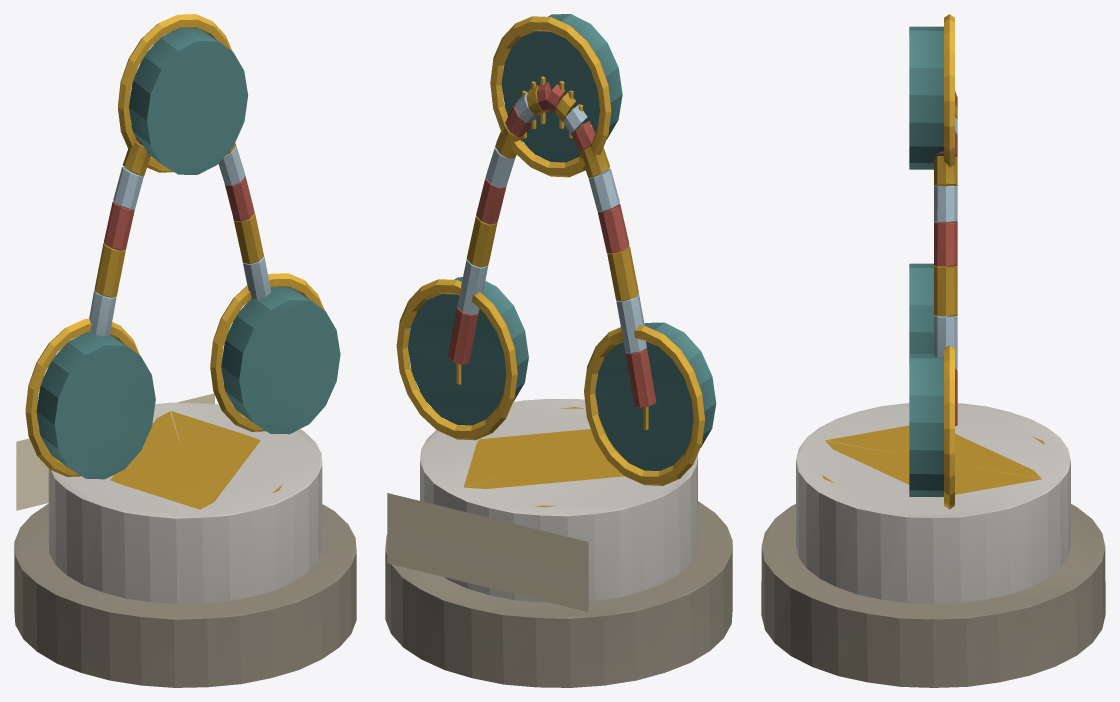
File: trophy_bridges_low.glb
3 views of the same model, side by side, from view 1: azimuth 30°, elevation 25°; view 2: azimuth 150°, elevation 25°; view 3: azimuth 270°, elevation 25° (orthographic).
Parts seen in each view (by area): view 1: common_pedestal, symbol, trophy_plate; view 2: common_pedestal, symbol, trophy_plate; view 3: common_pedestal, symbol.
Boxes of the visible parts, left/top/right/bottom form: common_pedestal: left=14, top=402, right=356, bottom=687; symbol: left=25, top=14, right=340, bottom=479; trophy_plate: left=16, top=393, right=214, bottom=510; common_pedestal: left=385, top=399, right=732, bottom=687; symbol: left=396, top=14, right=716, bottom=485; trophy_plate: left=387, top=493, right=588, bottom=612; common_pedestal: left=761, top=403, right=1105, bottom=687; symbol: left=909, top=14, right=957, bottom=509.
Bounding box in the file's own units: 0.9188 × 1.72 × 0.8987.
